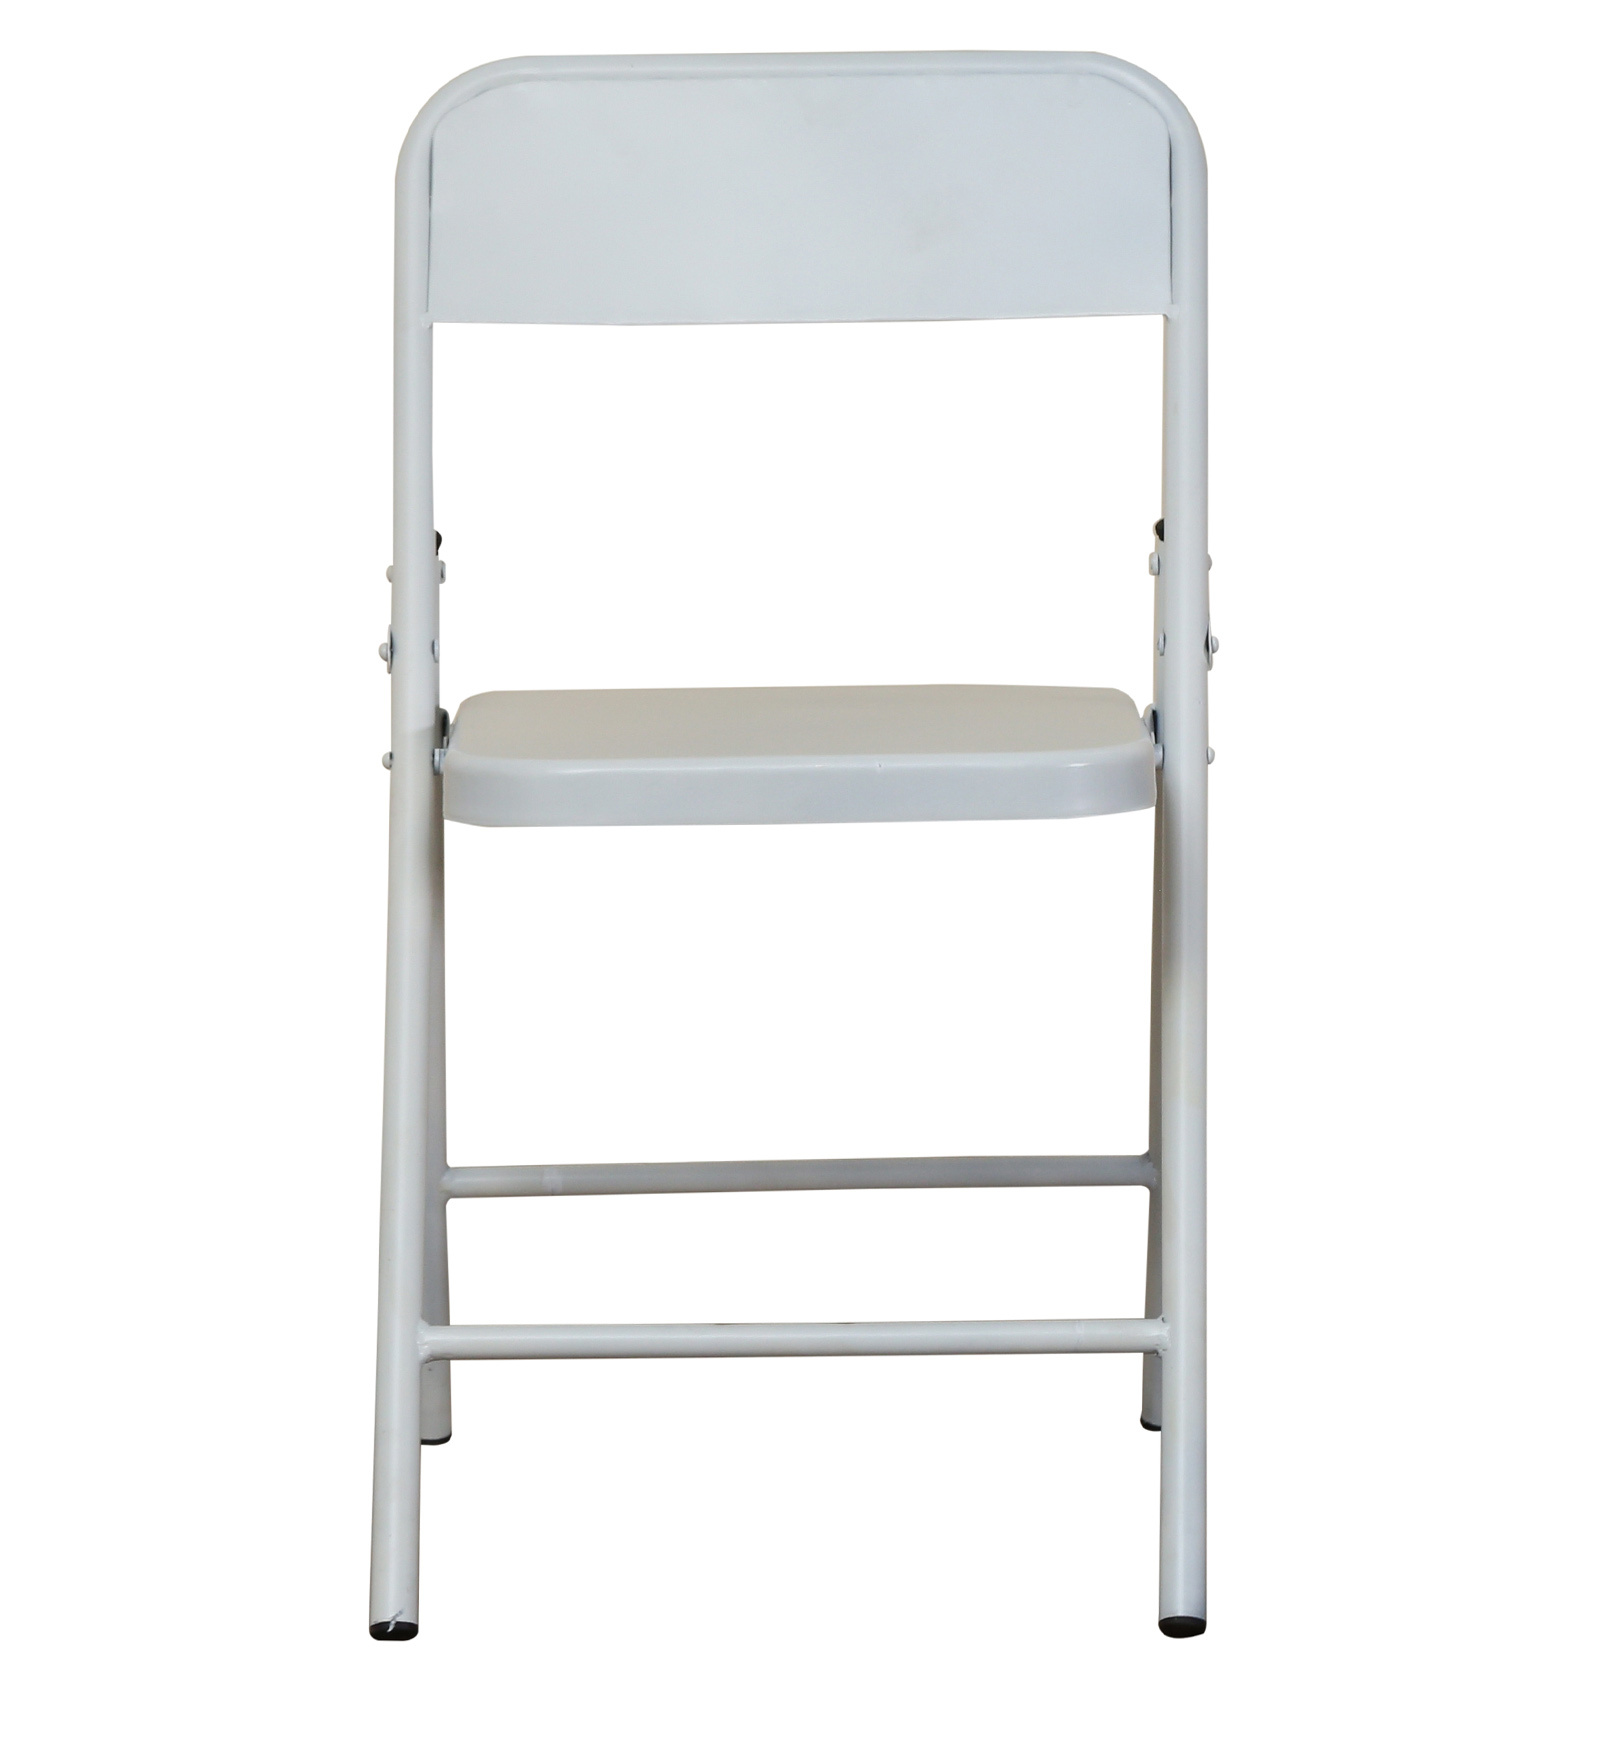Kell Folding Chair in White Color by Bohemiana: (331, 28, 1252, 1706)
